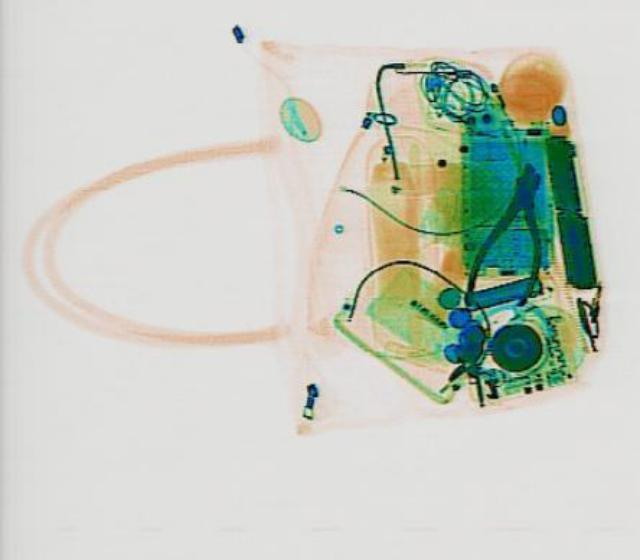Pliers: (457, 154, 565, 314)
